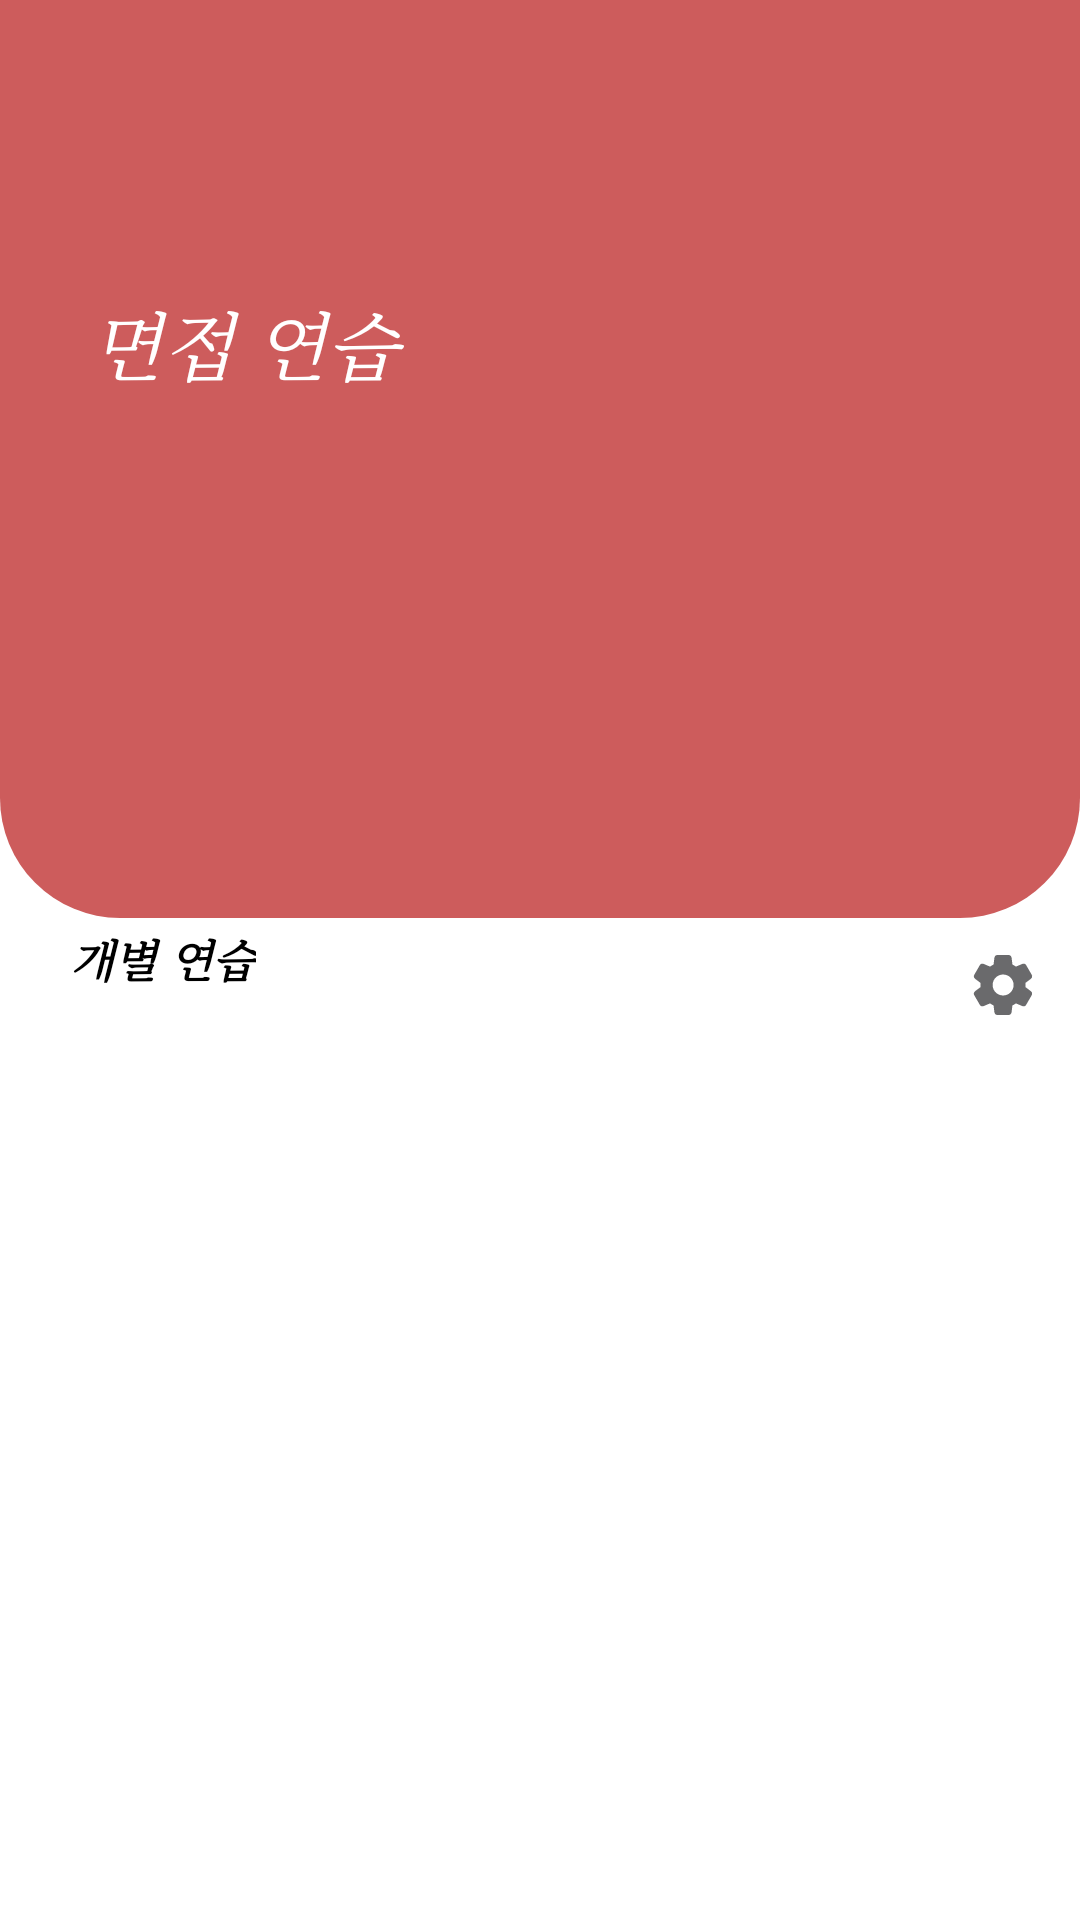

Icons on this 1080 x 1920 Android screen, each with the point to tap as (x,y):
settings: (1002,985)
